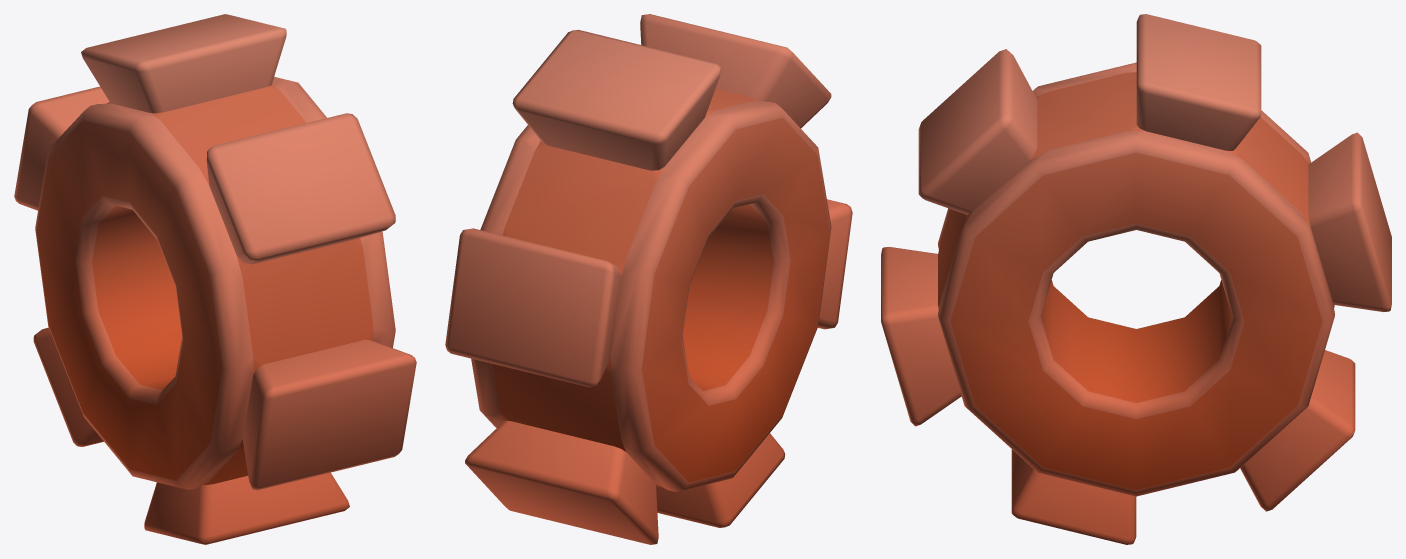
The model's file is Gear_V3_00.fbx.
3 views of the same model, side by side, from view 1: azimuth 30°, elevation 25°; view 2: azimuth 150°, elevation 25°; view 3: azimuth 270°, elevation 25° (orthographic).
Parts seen in each view (by area): view 1: Gear_V3_00; view 2: Gear_V3_00; view 3: Gear_V3_00.
Boxes of the visible parts, x1,y1,x2,y2 form: Gear_V3_00: (14, 14, 416, 544); Gear_V3_00: (445, 14, 852, 544); Gear_V3_00: (881, 14, 1391, 544).
Bounding box in the file's own units: 15.29 × 39.36 × 39.36.
